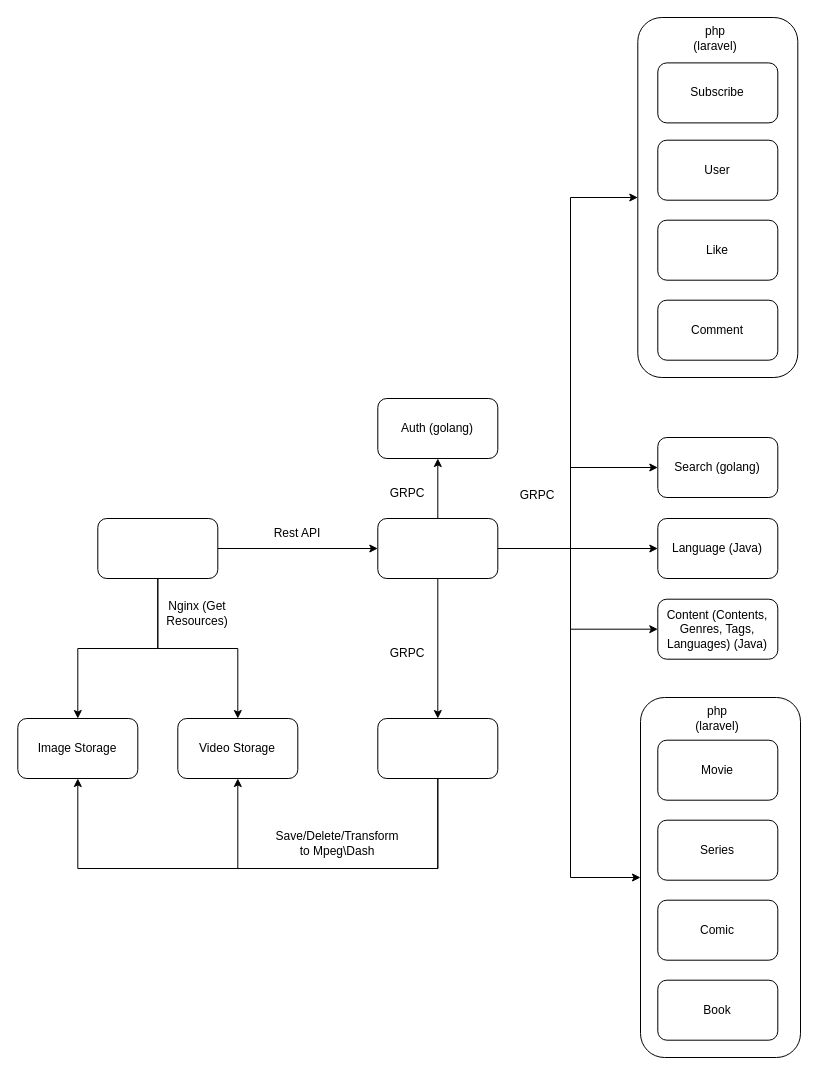
The diagram is 818 pixels wide and 1075 high, and some of its shapes have lost their labels. The shapes that lost their labels are listed below. From the top down, each one's centre as x and y in pixels, then its label:
[157,548]: Frontend
[437,548]: Gateway (golang)
[437,748]: Media (golang)
